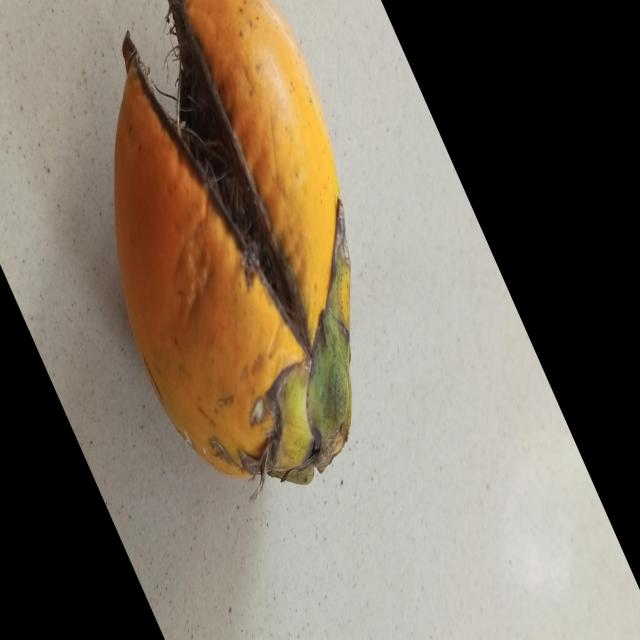damaged: (114, 0, 352, 490)
